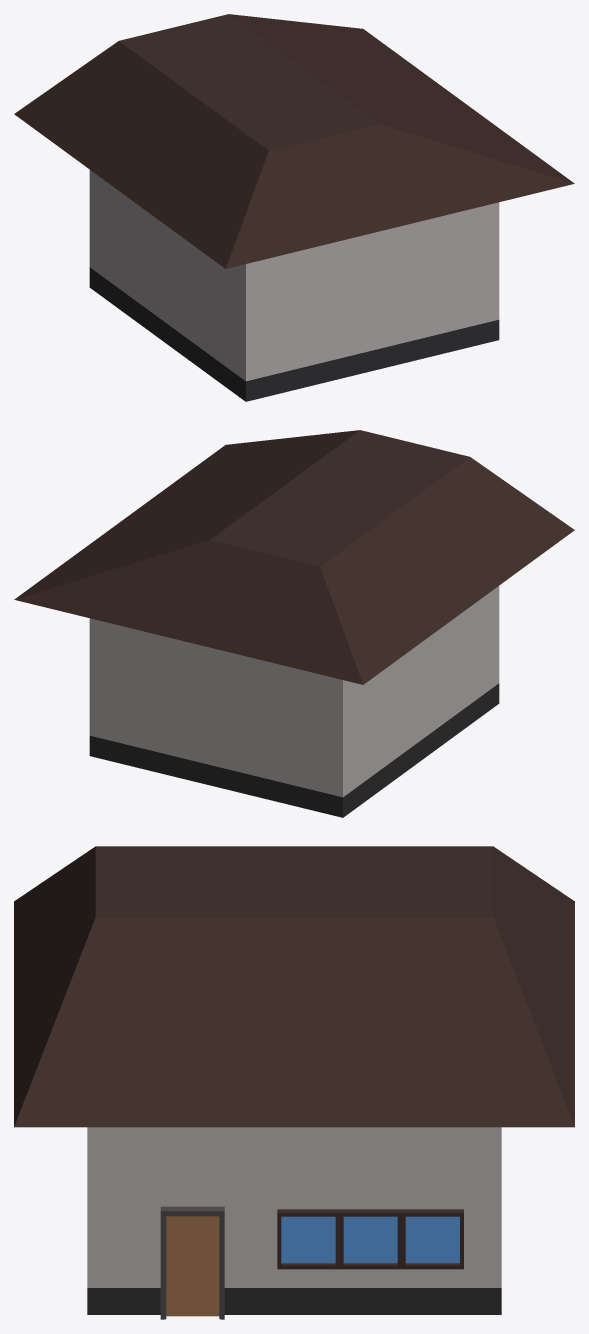
File: level_1.glb
3 views of the same model, one above another, from view 1: azimuth 30°, elevation 25°; view 2: azimuth 150°, elevation 25°; view 3: azimuth 270°, elevation 25° (orthographic). The views are drawn at different scales.
Parts seen in each view (by area): view 1: Cube.023; view 2: Cube.023; view 3: Cube.023.
Part boxes in pixels (x1=…): Cube.023: x1=14, y1=14, x2=574, y2=401; Cube.023: x1=14, y1=430, x2=574, y2=817; Cube.023: x1=14, y1=846, x2=574, y2=1319.
Bounding box in the file's own units: 1.1 × 0.7315 × 1.16.
